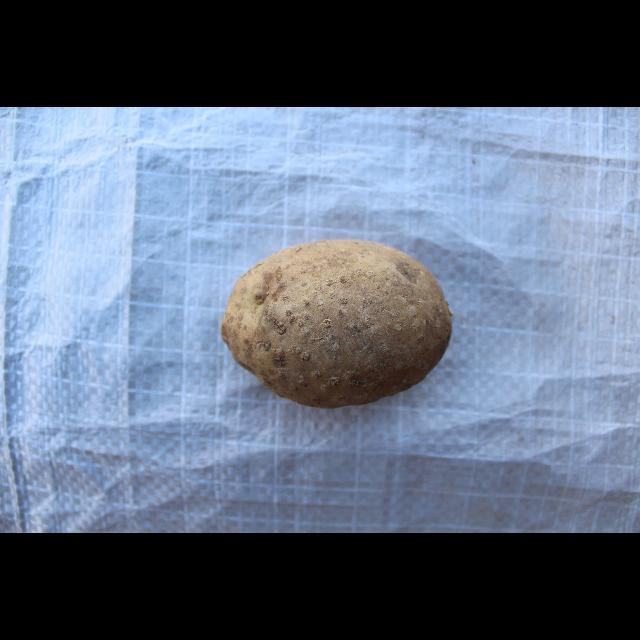Diseased-fungal potato: (215, 236, 452, 408)
